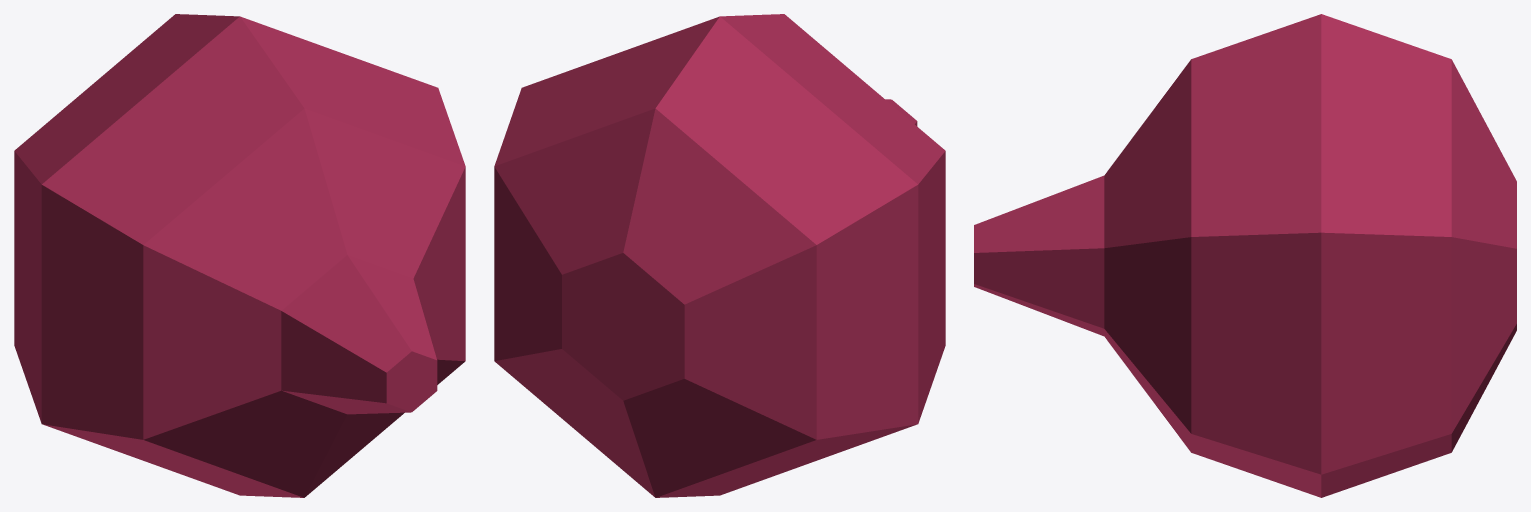
Rendered from onionCollider.obj.
The picture shows the model from 3 angles, left to right: view 1: azimuth 30°, elevation 25°; view 2: azimuth 150°, elevation 25°; view 3: azimuth 270°, elevation 25°; orthographic projection.
Parts seen in each view (by area): view 1: onionCollider, onionCollider2; view 2: onionCollider; view 3: onionCollider, onionCollider2.
Boxes of the visible parts, x1,y1,x2,y2 form: onionCollider: (14, 14, 465, 497); onionCollider2: (281, 255, 437, 414); onionCollider: (494, 14, 945, 497); onionCollider: (1104, 14, 1516, 497); onionCollider2: (974, 175, 1104, 336).
Size of the model in its own units: 0.213 by 0.246 by 0.25.
